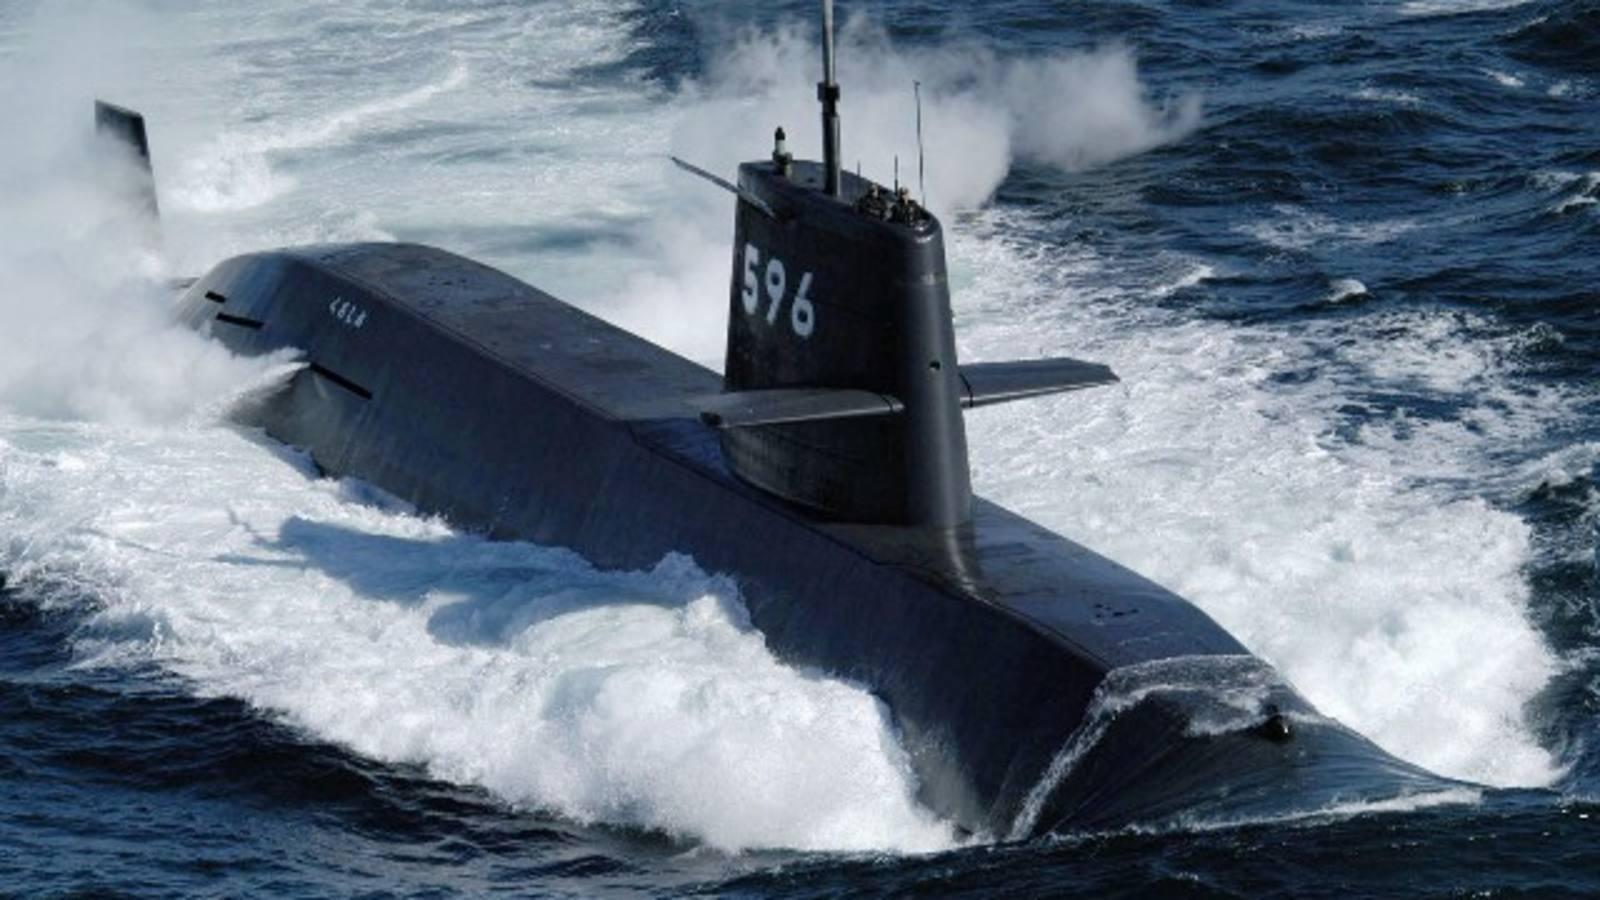Submarine: (35, 0, 1518, 900)
